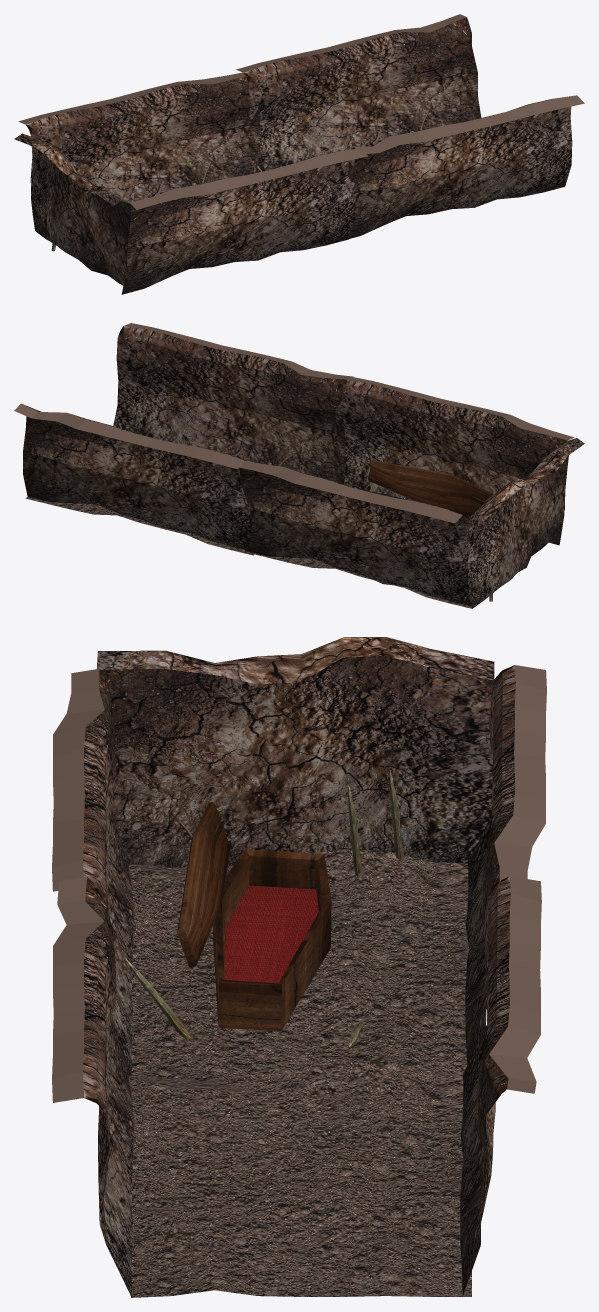
Rendered from Dug_Grave_pit.fbx.
The picture shows the model from 3 angles, top to bottom: view 1: azimuth 30°, elevation 25°; view 2: azimuth 150°, elevation 25°; view 3: azimuth 270°, elevation 25°; orthographic projection. The views are drawn at different scales.
Parts seen in each view (by area): view 1: polySurface10, polySurface3, polySurface9, polySurface7, polySurface6; view 2: polySurface7, polySurface9, polySurface10, polySurface3, polySurface6, polySurface1, polySurface8, polySurface5; view 3: polySurface6, polySurface8, polySurface5, polySurface1, polySurface7, polySurface10, polySurface3, polySurface9.
Part boxes in pixels (x1,y1,x2,y2): polySurface10: (236,14,481,173); polySurface3: (121,149,367,294); polySurface9: (18,72,262,202); polySurface7: (347,95,584,238); polySurface6: (14,133,130,289); polySurface7: (113,323,353,483); polySurface9: (239,460,471,606); polySurface10: (14,403,252,549); polySurface3: (335,377,574,545); polySurface6: (465,438,584,608); polySurface1: (357,460,492,518); polySurface8: (25,497,255,555); polySurface5: (255,553,471,608); polySurface6: (96,637,494,867); polySurface8: (128,1060,471,1297); polySurface5: (128,849,469,1084); polySurface1: (177,802,331,1031); polySurface7: (52,876,133,1296); polySurface10: (460,876,541,1295); polySurface3: (52,669,133,1074); polySurface9: (465,665,546,1066).
Bounding box in the file's own units: 55.97 × 13.04 × 25.85.
5 materials, 5 textured.
